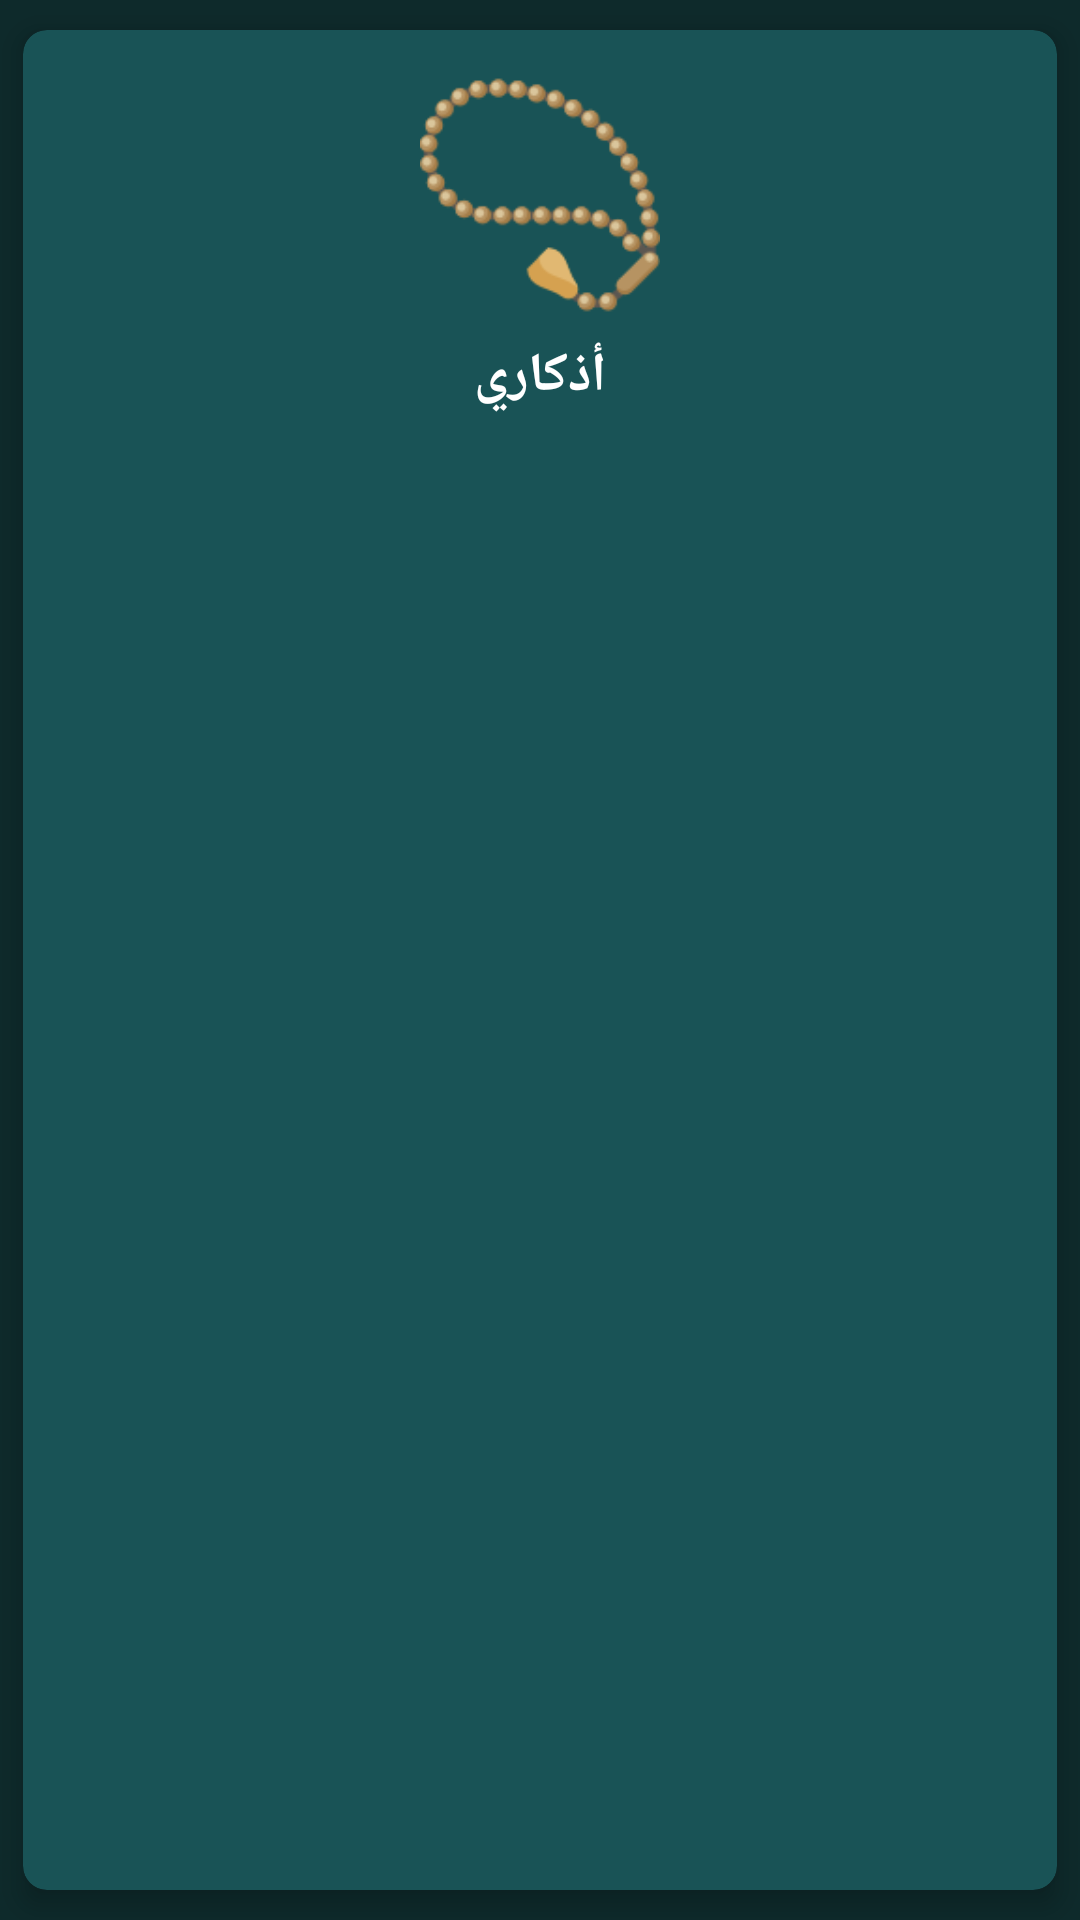

Named icons in this screenshot (1080 x 1920) and their centers, (x=x, y=y):
beads: (x=540, y=195)
